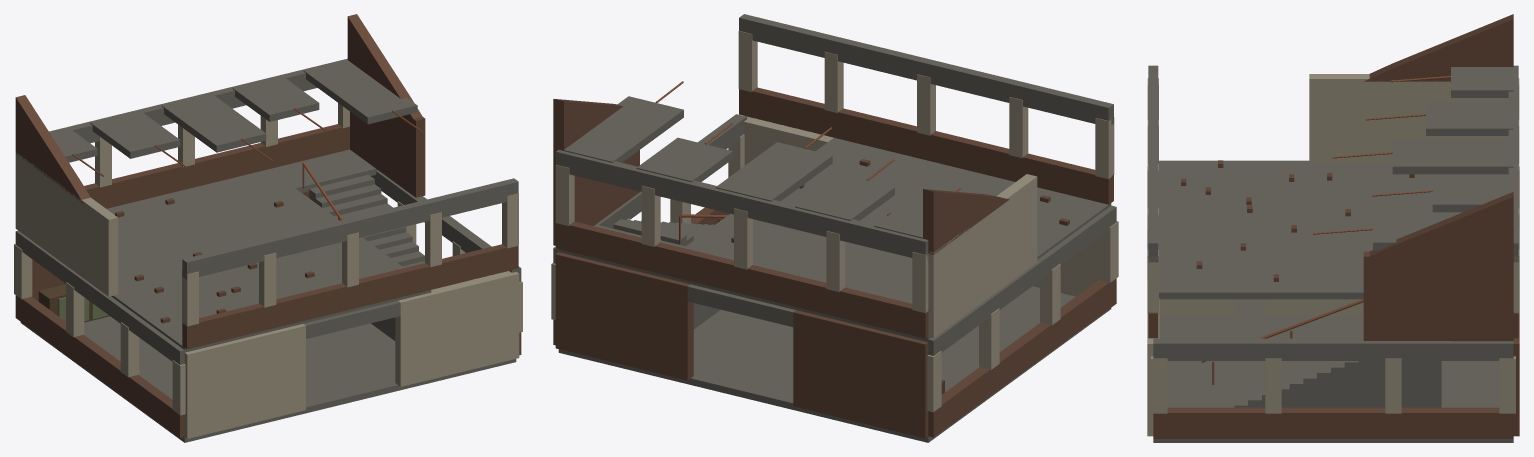
Rendered from ruin_tenement.glb.
The picture shows the model from 3 angles, left to right: view 1: azimuth 30°, elevation 25°; view 2: azimuth 150°, elevation 25°; view 3: azimuth 270°, elevation 25°; orthographic projection. The views are drawn at different scales.
Visible parts, largest first — view 1: FLOOR_upper_main, WALL_front.001, WALL_front, FLOOR_ground, WALL_sill.001, WALL_upper_west, WALL_lintel.001, WALL_sill, WALL_side_sill, WALL_upper_east, roof_remnant.004, roof_remnant.002 (+26 smaller); view 2: FLOOR_upper_main, WALL_back.001, WALL_back, FLOOR_ground, WALL_sill, WALL_sill.001, WALL_upper_west, WALL_lintel.001, WALL_lintel, WALL_side_sill, roof_remnant.004, WALL_side_lintel (+27 smaller); view 3: FLOOR_upper_main, WALL_upper_east, FLOOR_ground, WALL_side_sill.001, WALL_upper_west, WALL_side_lintel.001, blast_torn_wall.001, blast_torn_wall, roof_remnant.002, roof_remnant.001, roof_remnant.003, WALL_lintel.001 (+28 smaller).
Boxes of the visible parts, x1,y1,x2,y2 form: FLOOR_upper_main: [107, 169, 431, 352]; WALL_front.001: [395, 271, 519, 386]; WALL_front: [184, 324, 305, 438]; FLOOR_ground: [20, 316, 516, 442]; WALL_sill.001: [182, 244, 518, 349]; WALL_upper_west: [15, 152, 118, 296]; WALL_lintel.001: [182, 178, 518, 279]; WALL_sill: [84, 124, 349, 208]; WALL_side_sill: [15, 295, 184, 437]; WALL_upper_east: [350, 112, 425, 197]; roof_remnant.004: [303, 60, 417, 124]; roof_remnant.002: [161, 93, 266, 152]; FLOOR_upper_main: [653, 138, 1111, 341]; WALL_back.001: [555, 252, 693, 380]; WALL_back: [793, 310, 928, 438]; FLOOR_ground: [558, 286, 1111, 442]; WALL_sill: [556, 221, 928, 338]; WALL_sill.001: [739, 87, 1113, 204]; WALL_upper_west: [928, 174, 1037, 337]; WALL_lintel.001: [739, 14, 1113, 124]; WALL_lintel: [556, 150, 928, 259]; WALL_side_sill: [928, 278, 1116, 437]; roof_remnant.004: [557, 96, 683, 162]; WALL_side_lintel: [928, 205, 1116, 355]; FLOOR_upper_main: [1159, 160, 1507, 299]; WALL_upper_east: [1363, 251, 1513, 340]; FLOOR_ground: [1153, 299, 1513, 442]; WALL_side_sill.001: [1153, 407, 1513, 438]; WALL_upper_west: [1309, 74, 1507, 163]; WALL_side_lintel.001: [1153, 338, 1513, 360]; blast_torn_wall.001: [1364, 192, 1513, 259]; blast_torn_wall: [1364, 14, 1513, 81]; roof_remnant.002: [1392, 140, 1513, 174]; roof_remnant.001: [1426, 102, 1513, 135]; roof_remnant.003: [1432, 178, 1513, 212]; WALL_lintel.001: [1148, 65, 1158, 262].
Bounding box in the file's own units: 14.46 × 9.14 × 12.4.
